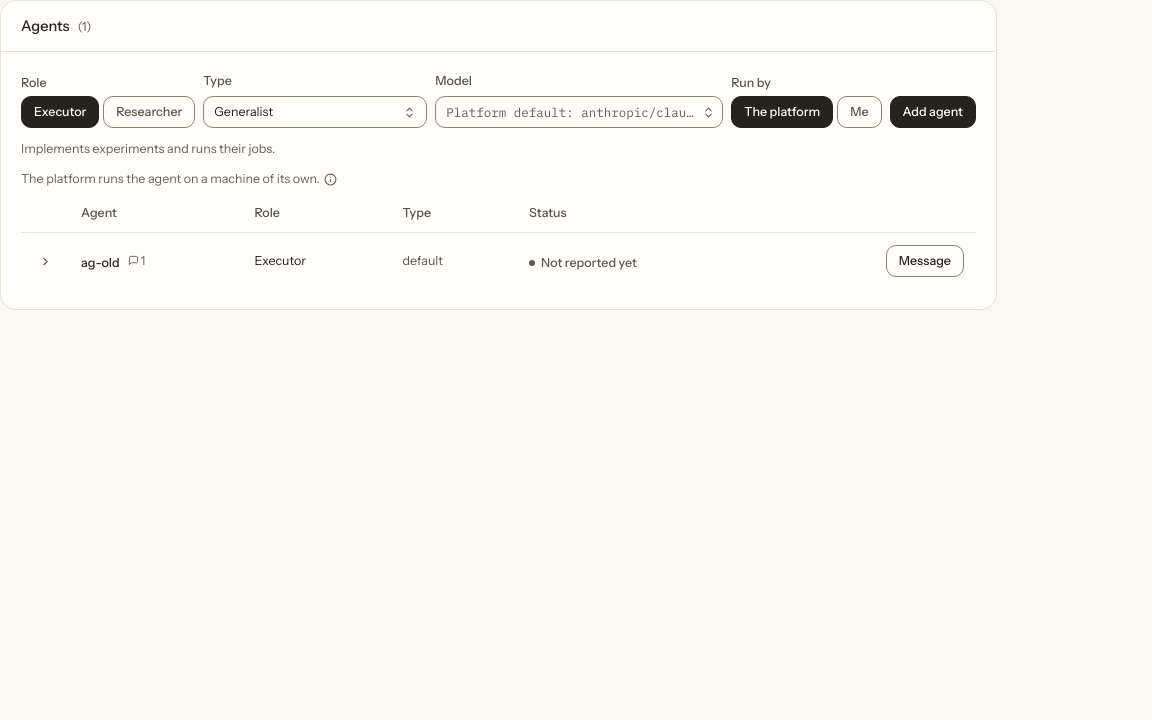
Test: messaging an agent › sends the owner's message and shows the messages the agent was sent
Click the button "Message": point(925, 262) [886,246,964,278]
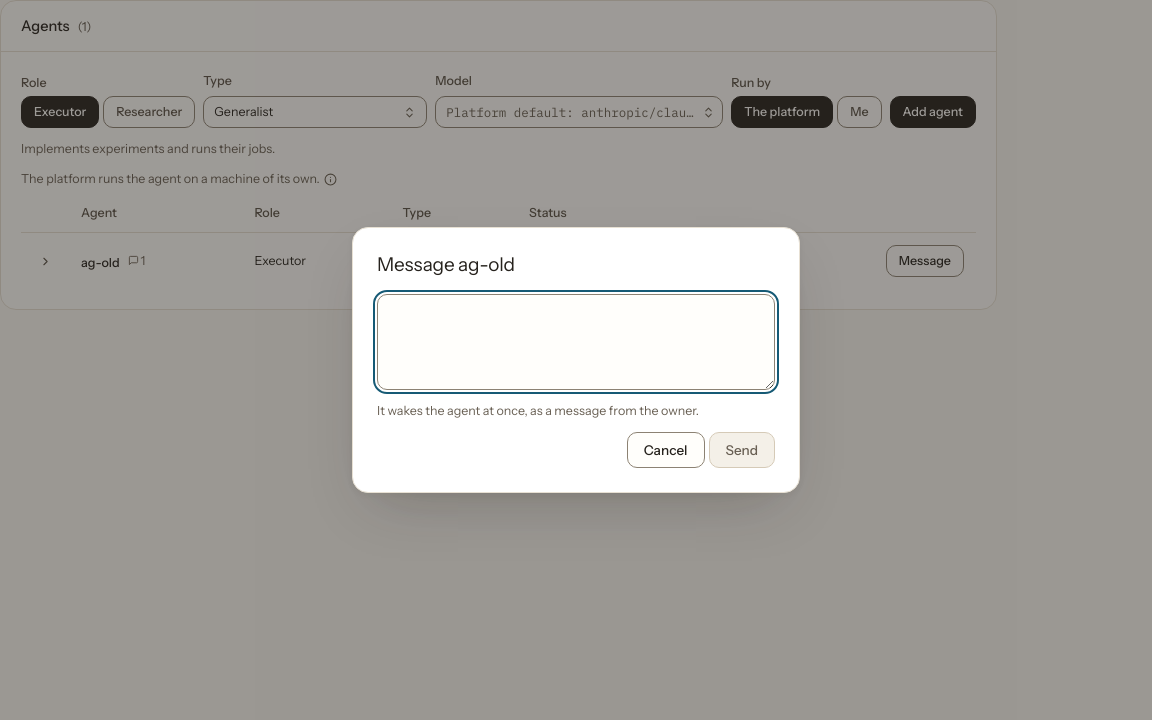
In the text box named "Message": point(576, 342) [377,294,775,390], type "try warmup"
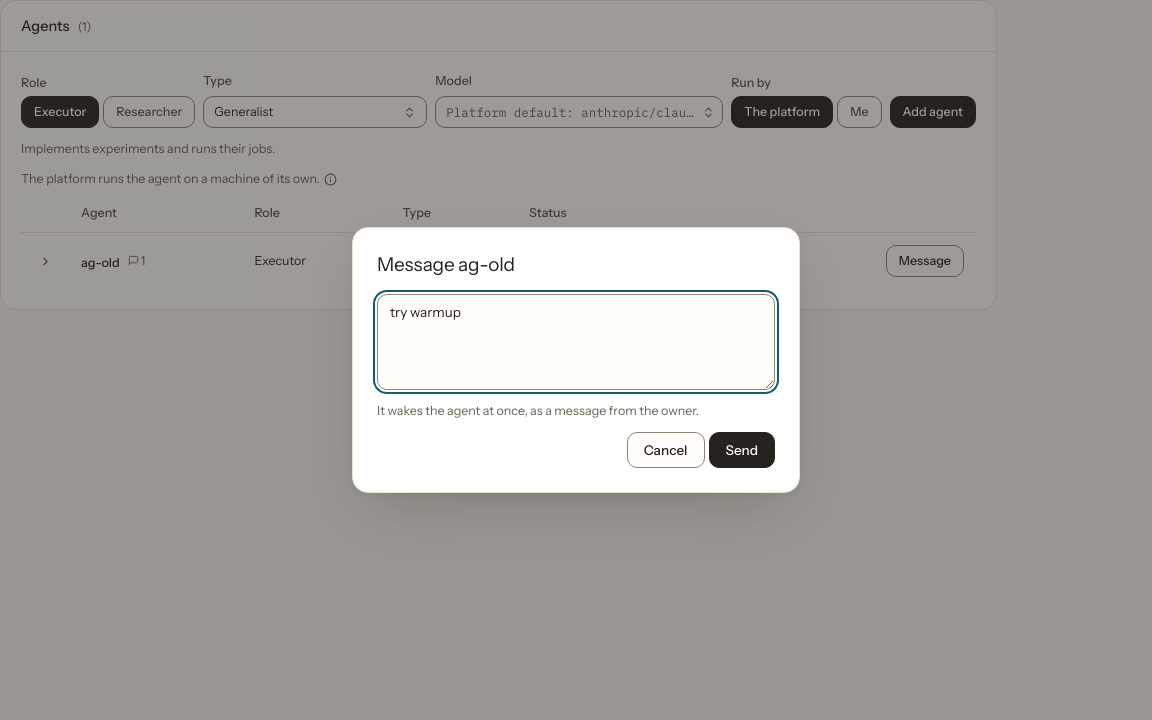
Click the button "Send": point(742, 450) [708,432,775,468]
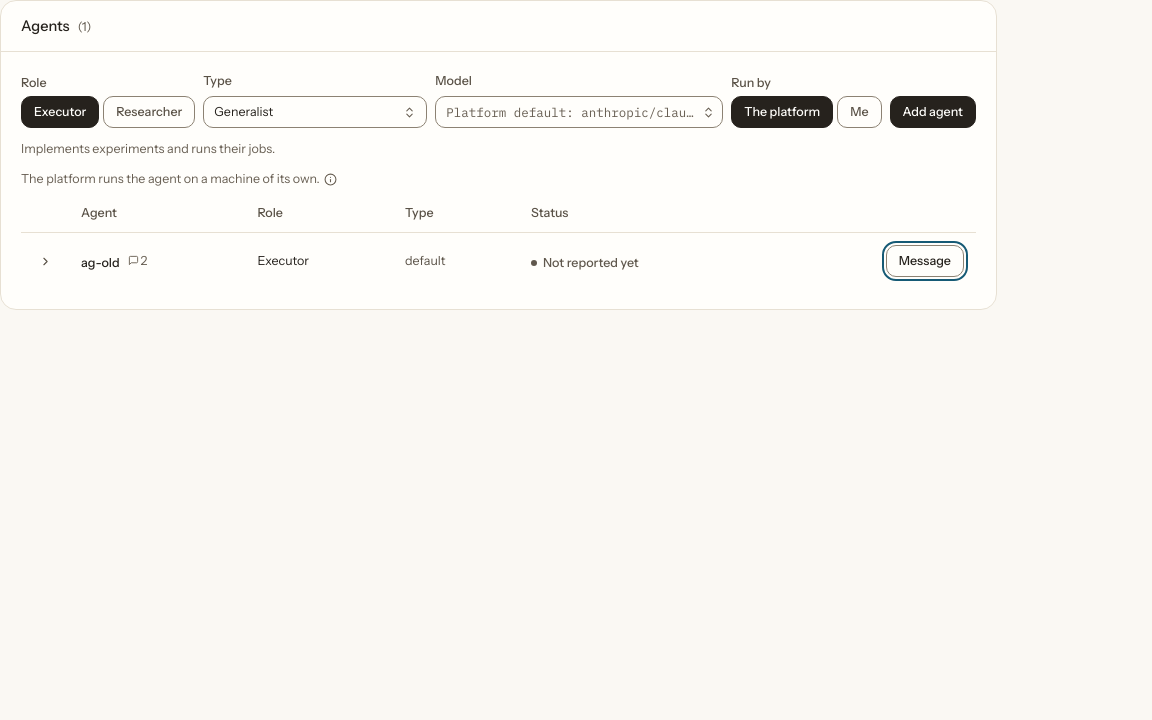
Click the button named "Details of ag-old": point(45, 262) [33,250,57,274]
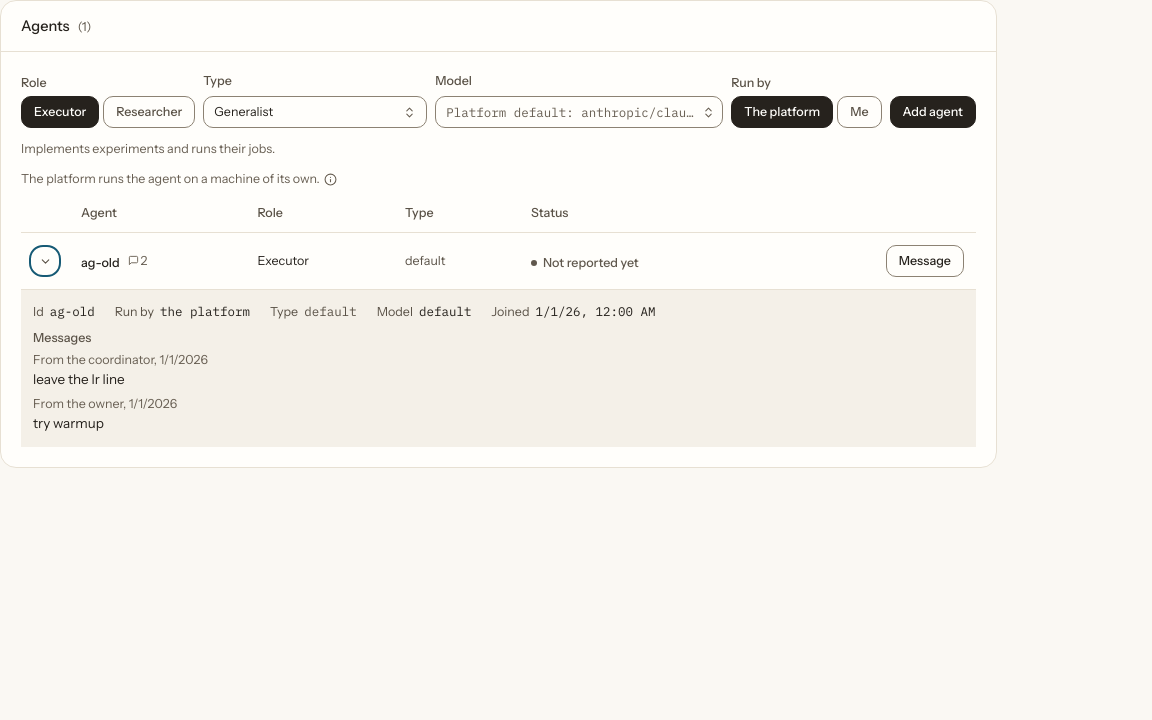
Expected: the text "From the owner, 1/1/2026" is shown, [33,396,177,411]
Expected: the text "try warmup" is shown, [33,415,104,431]
Expected: the text "From the coordinator, 1/1/2026" is shown, [33,352,208,368]
